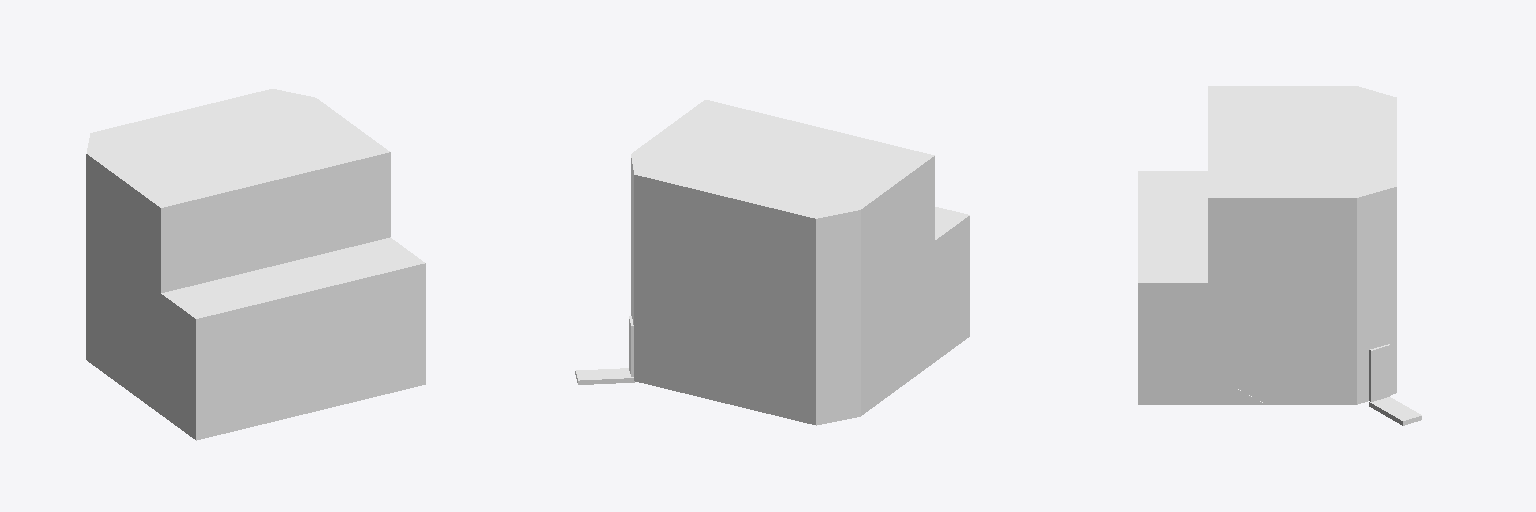
File: BarInside.obj
3 views of the same model, side by side, from view 1: azimuth 30°, elevation 25°; view 2: azimuth 150°, elevation 25°; view 3: azimuth 270°, elevation 25° (orthographic).
Parts seen in each view (by area): view 1: BarInside; view 2: BarInside; view 3: BarInside.
Part boxes in pixels (x1,y1,x2,y2): BarInside: (86,89,425,440); BarInside: (575,100,969,425); BarInside: (1138,86,1421,425).
Bounding box in the file's own units: 29.15 × 22.57 × 27.43.